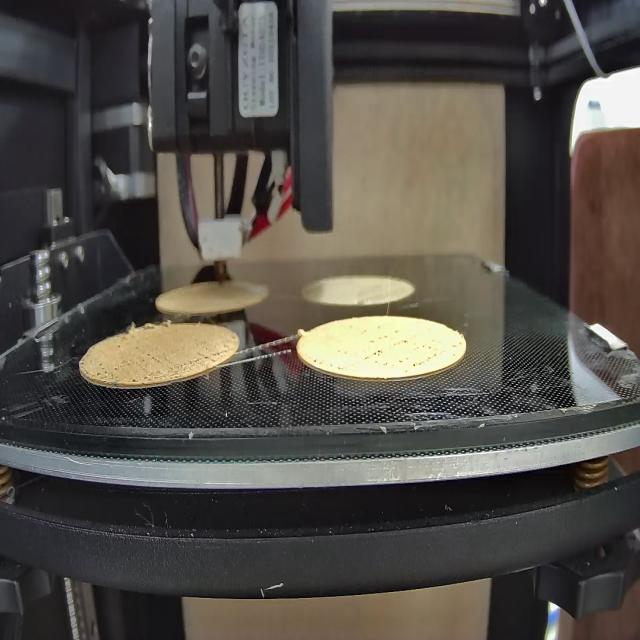under_extrusion: (360, 327, 438, 368), (99, 341, 172, 382), (185, 344, 232, 369), (314, 351, 348, 375)
